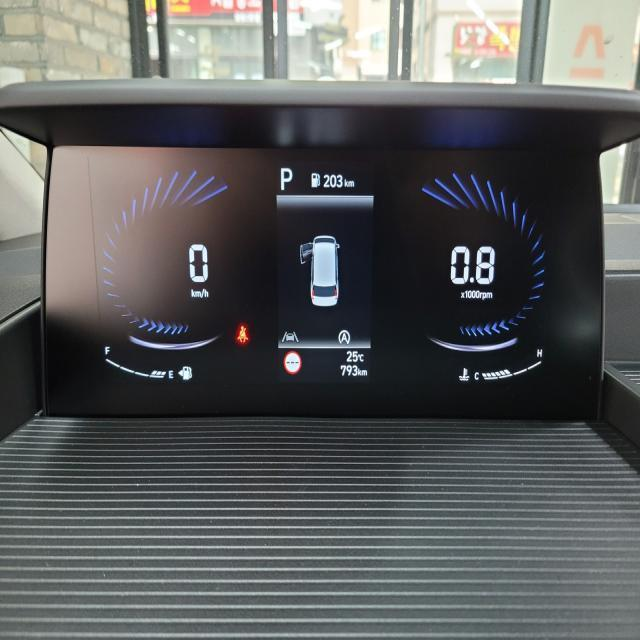LaneCenteringOff: (281, 330, 298, 343)
